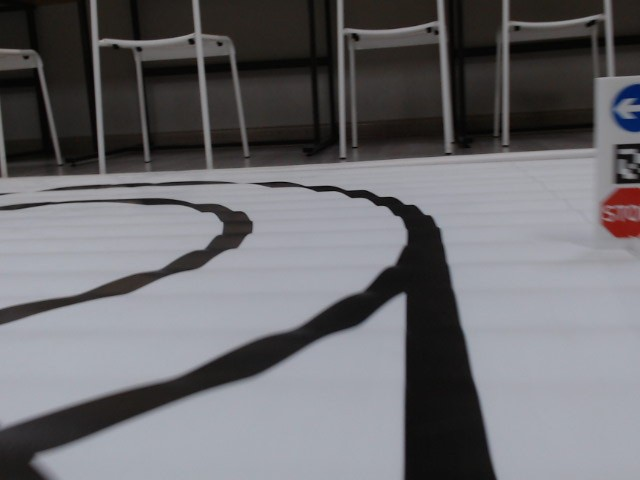Stop: (601, 188, 640, 237)
